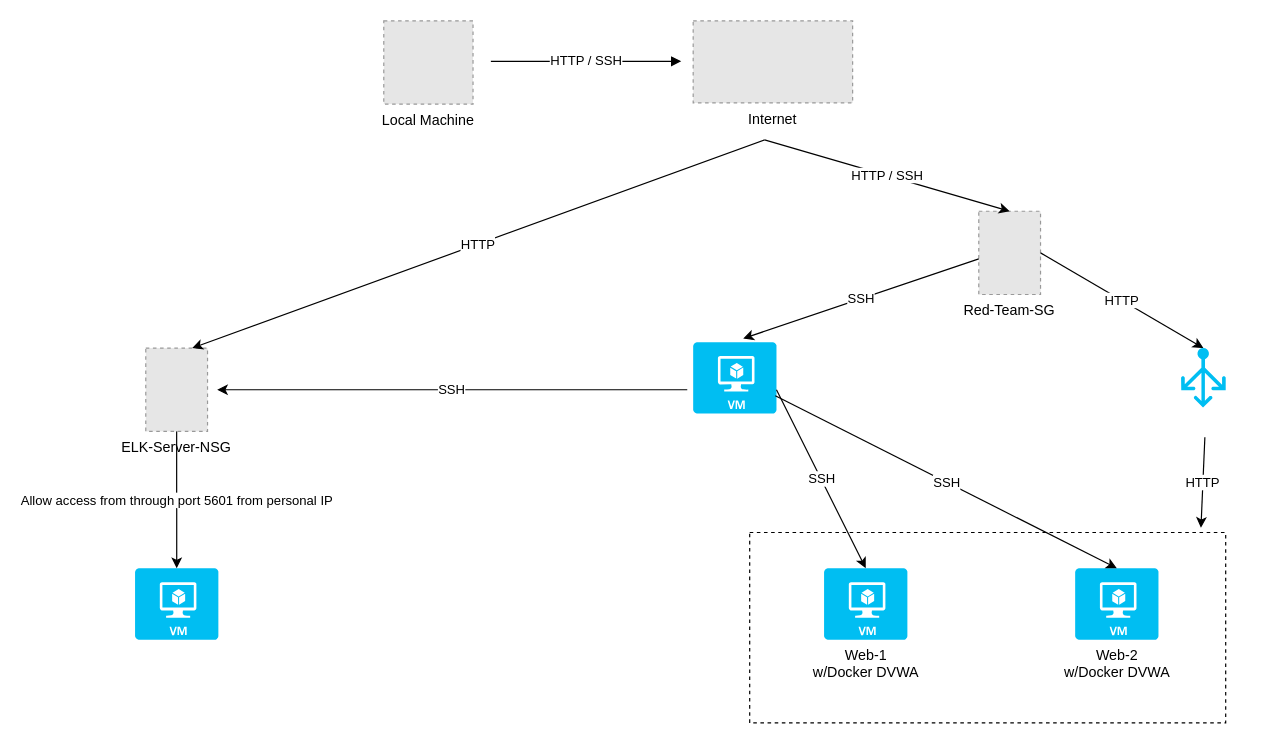
The diagram is 1263 pixels wide and 744 high, and some of its shapes have lost their labels. Grey dashed boxes stand in for pictures. Here are the shapes that lost their labels. From the top down, the box of each, then its label:
(693, 342, 776, 413): JumpBoxProvisioner w/Ansible
(1180, 347, 1225, 407): RedTeamLB
(134, 568, 218, 639): ELK VM w/Docker Elk-Stack
